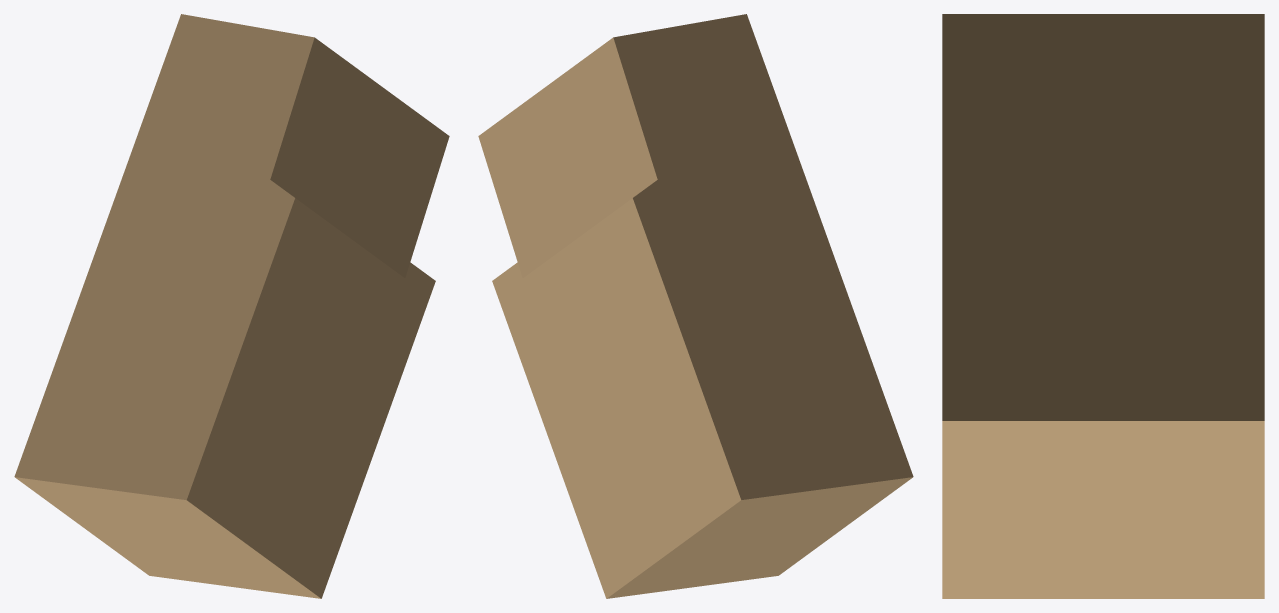
The picture shows the model from 3 angles, left to right: view 1: azimuth 30°, elevation 25°; view 2: azimuth 150°, elevation 25°; view 3: azimuth 270°, elevation 25°; orthographic projection. The views are drawn at different scales.
Parts seen in each view (by area): view 1: 0_0_3_1_3_2_1_1; view 2: 0_0_3_1_3_2_1_1; view 3: 0_0_3_1_3_2_1_1.
Boxes of the visible parts, bbox=[...] form: 0_0_3_1_3_2_1_1: bbox=[14, 14, 449, 598]; 0_0_3_1_3_2_1_1: bbox=[478, 14, 913, 598]; 0_0_3_1_3_2_1_1: bbox=[942, 14, 1264, 598].
Size of the model in its own units: 34.69 by 53.81 by 27.
